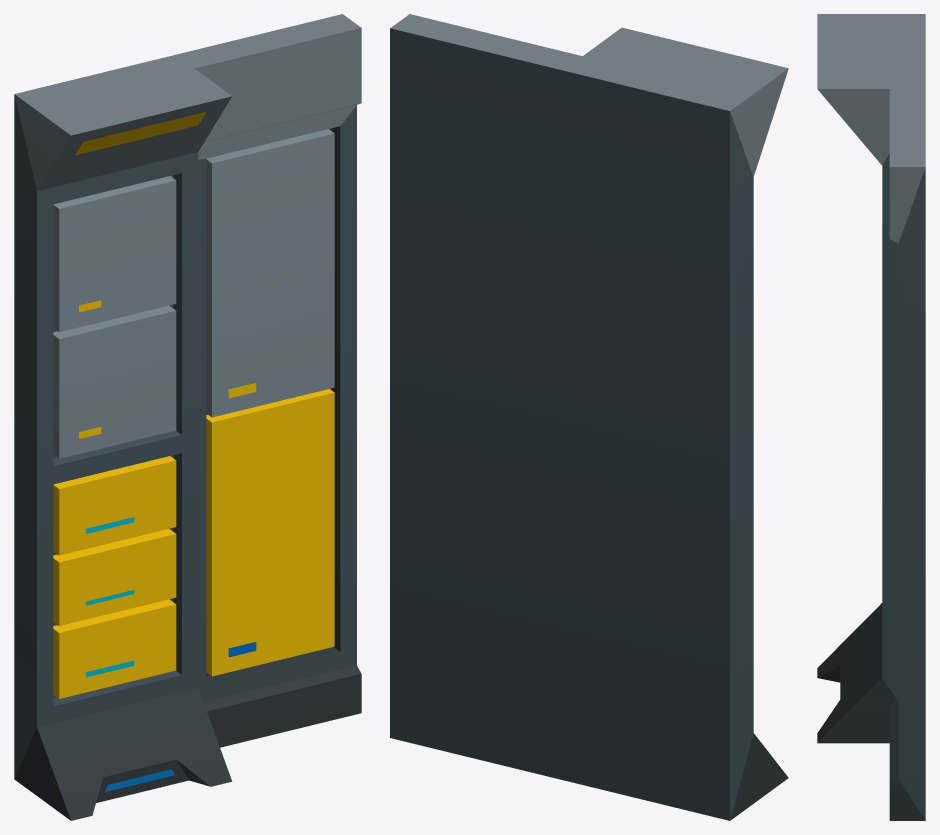
Rendered from Wall_type_C_012.fbx.
The picture shows the model from 3 angles, left to right: view 1: azimuth 30°, elevation 25°; view 2: azimuth 150°, elevation 25°; view 3: azimuth 270°, elevation 25°; orthographic projection. The views are drawn at different scales.
Parts seen in each view (by area): view 1: Wall_type_C_012; view 2: Wall_type_C_012; view 3: Wall_type_C_012.
Part boxes in pixels (x1,y1,x2,y2): Wall_type_C_012: (14,14,361,820); Wall_type_C_012: (390,14,788,820); Wall_type_C_012: (817,14,925,820).
Size of the model in its own units: 200 by 60 by 400.
